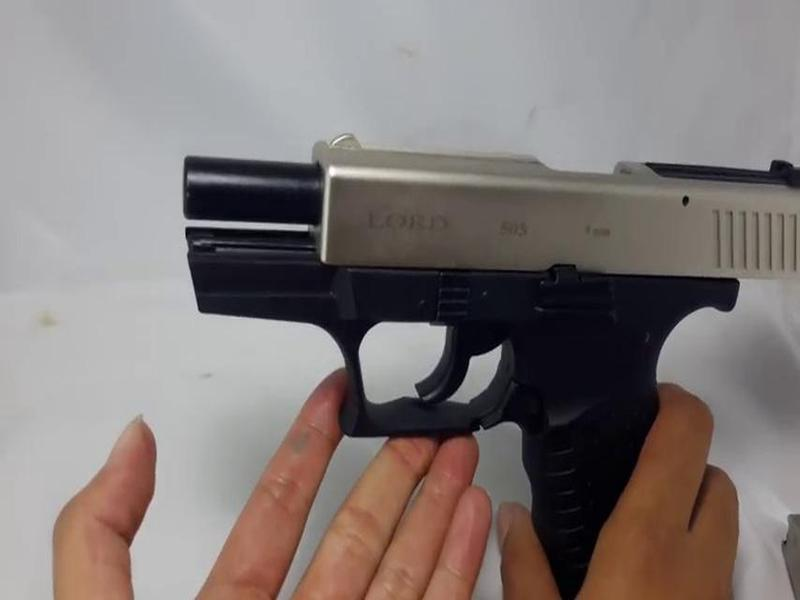Pistola: (173, 136, 752, 562)
